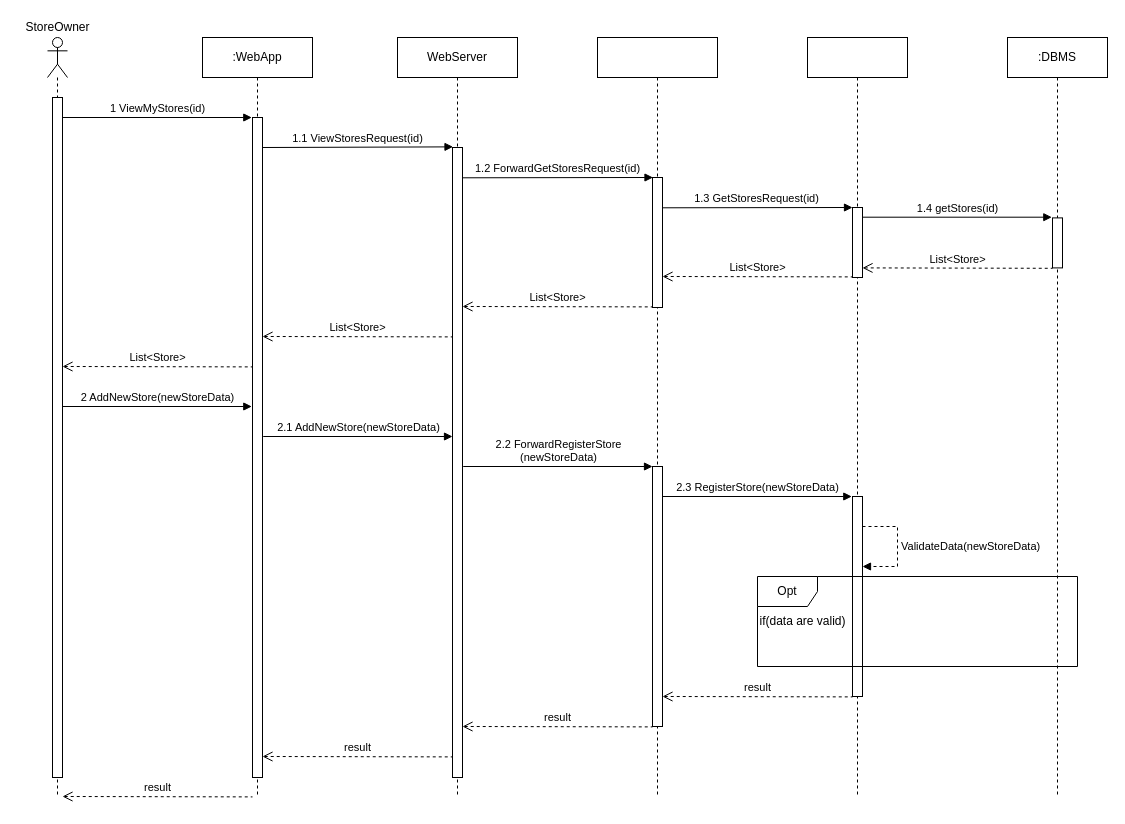
Image size: 1125x824. Some labels were removed from this diagram. Each missing label, with the box of its shape:
:Redirector: (596, 36, 718, 798)
:StoreManager: (806, 36, 908, 798)
